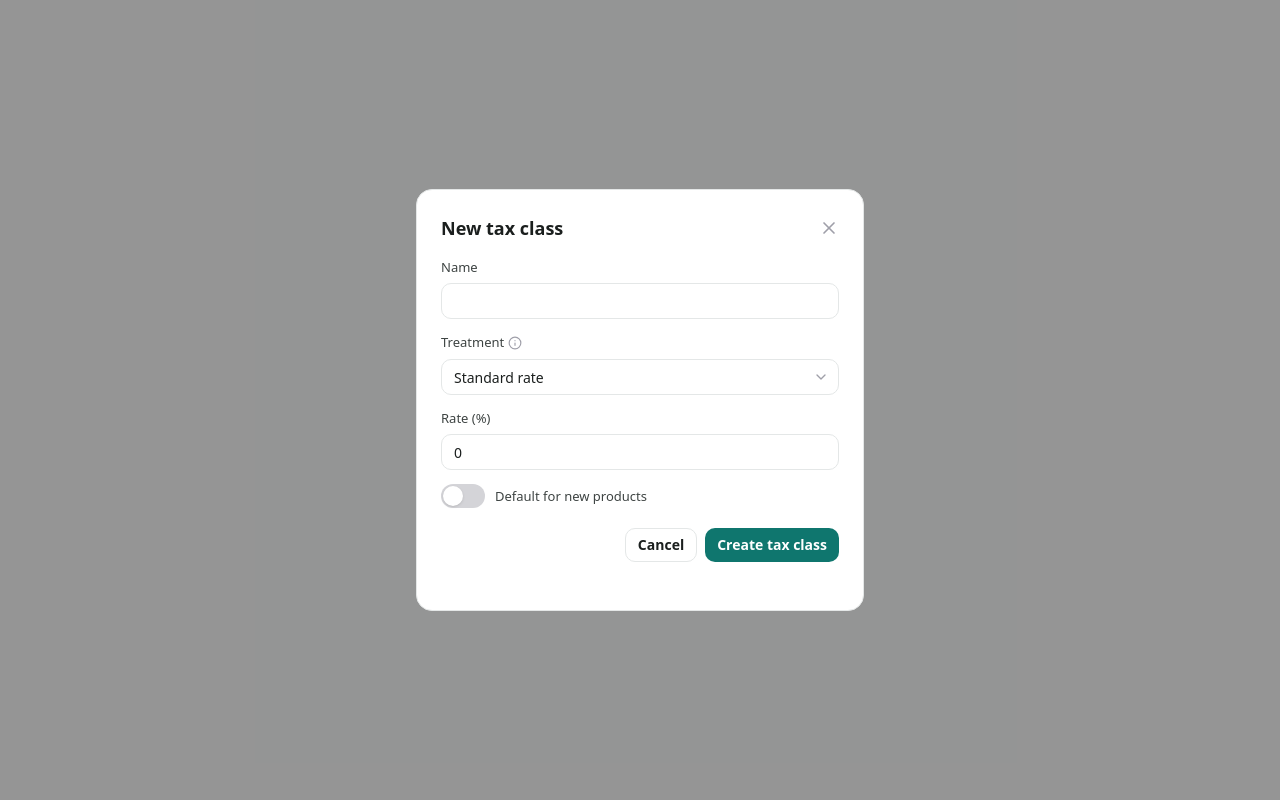
Test: TaxClassFormModal › treats out_of_scope as a 0% class with no rate input
This screenshot has width=1280, height=800.
Select "Out of scope" in the dropdown labelled "Treatment" at point(640, 377), box top-left (441, 359), bottom-right (839, 395)
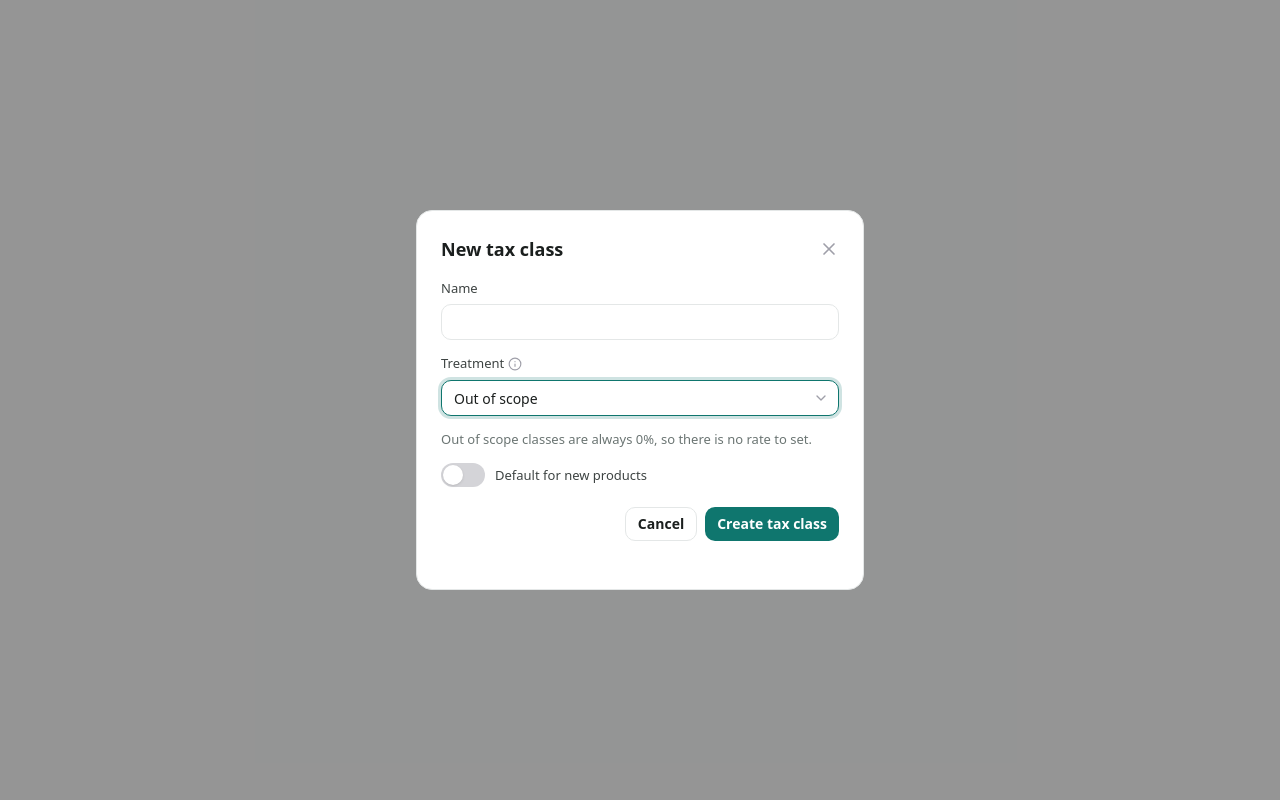
Expected: the label labelled "Rate (%)" is gone
Expected: the text "always 0%" is shown, top-left (519, 430), bottom-right (812, 448)
